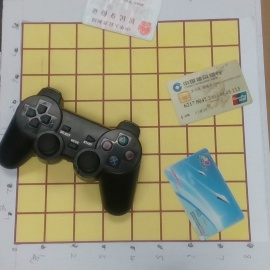card: (164, 147, 243, 238), (166, 58, 253, 128), (81, 0, 162, 41)
remote: (0, 87, 143, 218)
